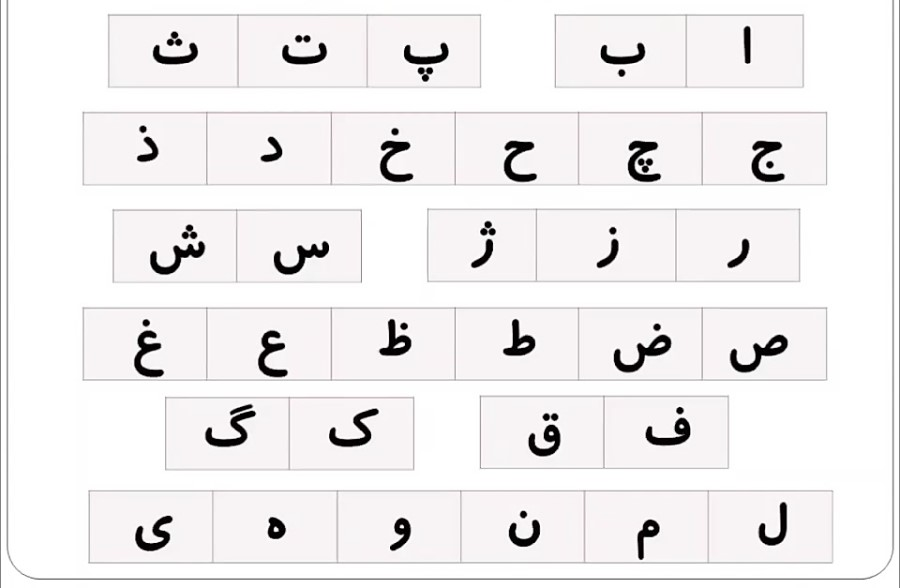character: (379, 23, 467, 89), (255, 22, 349, 80), (137, 217, 222, 281), (605, 312, 688, 376), (504, 400, 586, 464), (309, 397, 392, 459), (256, 222, 349, 277), (737, 493, 814, 559), (117, 314, 196, 378), (139, 17, 212, 81), (629, 399, 705, 458), (725, 320, 802, 378), (614, 504, 686, 565), (237, 320, 311, 379), (496, 497, 567, 557), (364, 122, 436, 181), (587, 29, 662, 85), (190, 402, 269, 455), (456, 214, 521, 278), (490, 128, 558, 183), (488, 311, 552, 369), (579, 216, 638, 276), (371, 312, 425, 375), (239, 123, 311, 170), (706, 217, 763, 276), (741, 130, 802, 185), (127, 502, 185, 559), (719, 20, 778, 75), (618, 129, 677, 183), (256, 504, 315, 558), (377, 504, 436, 556), (116, 123, 175, 170)
